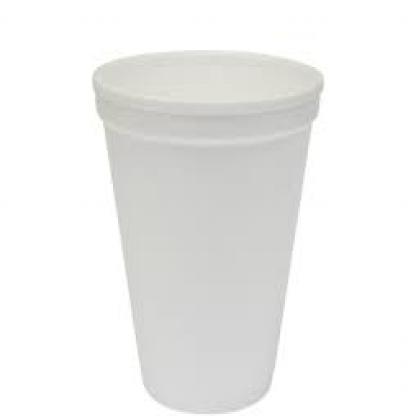paper: (90, 52, 323, 412)
